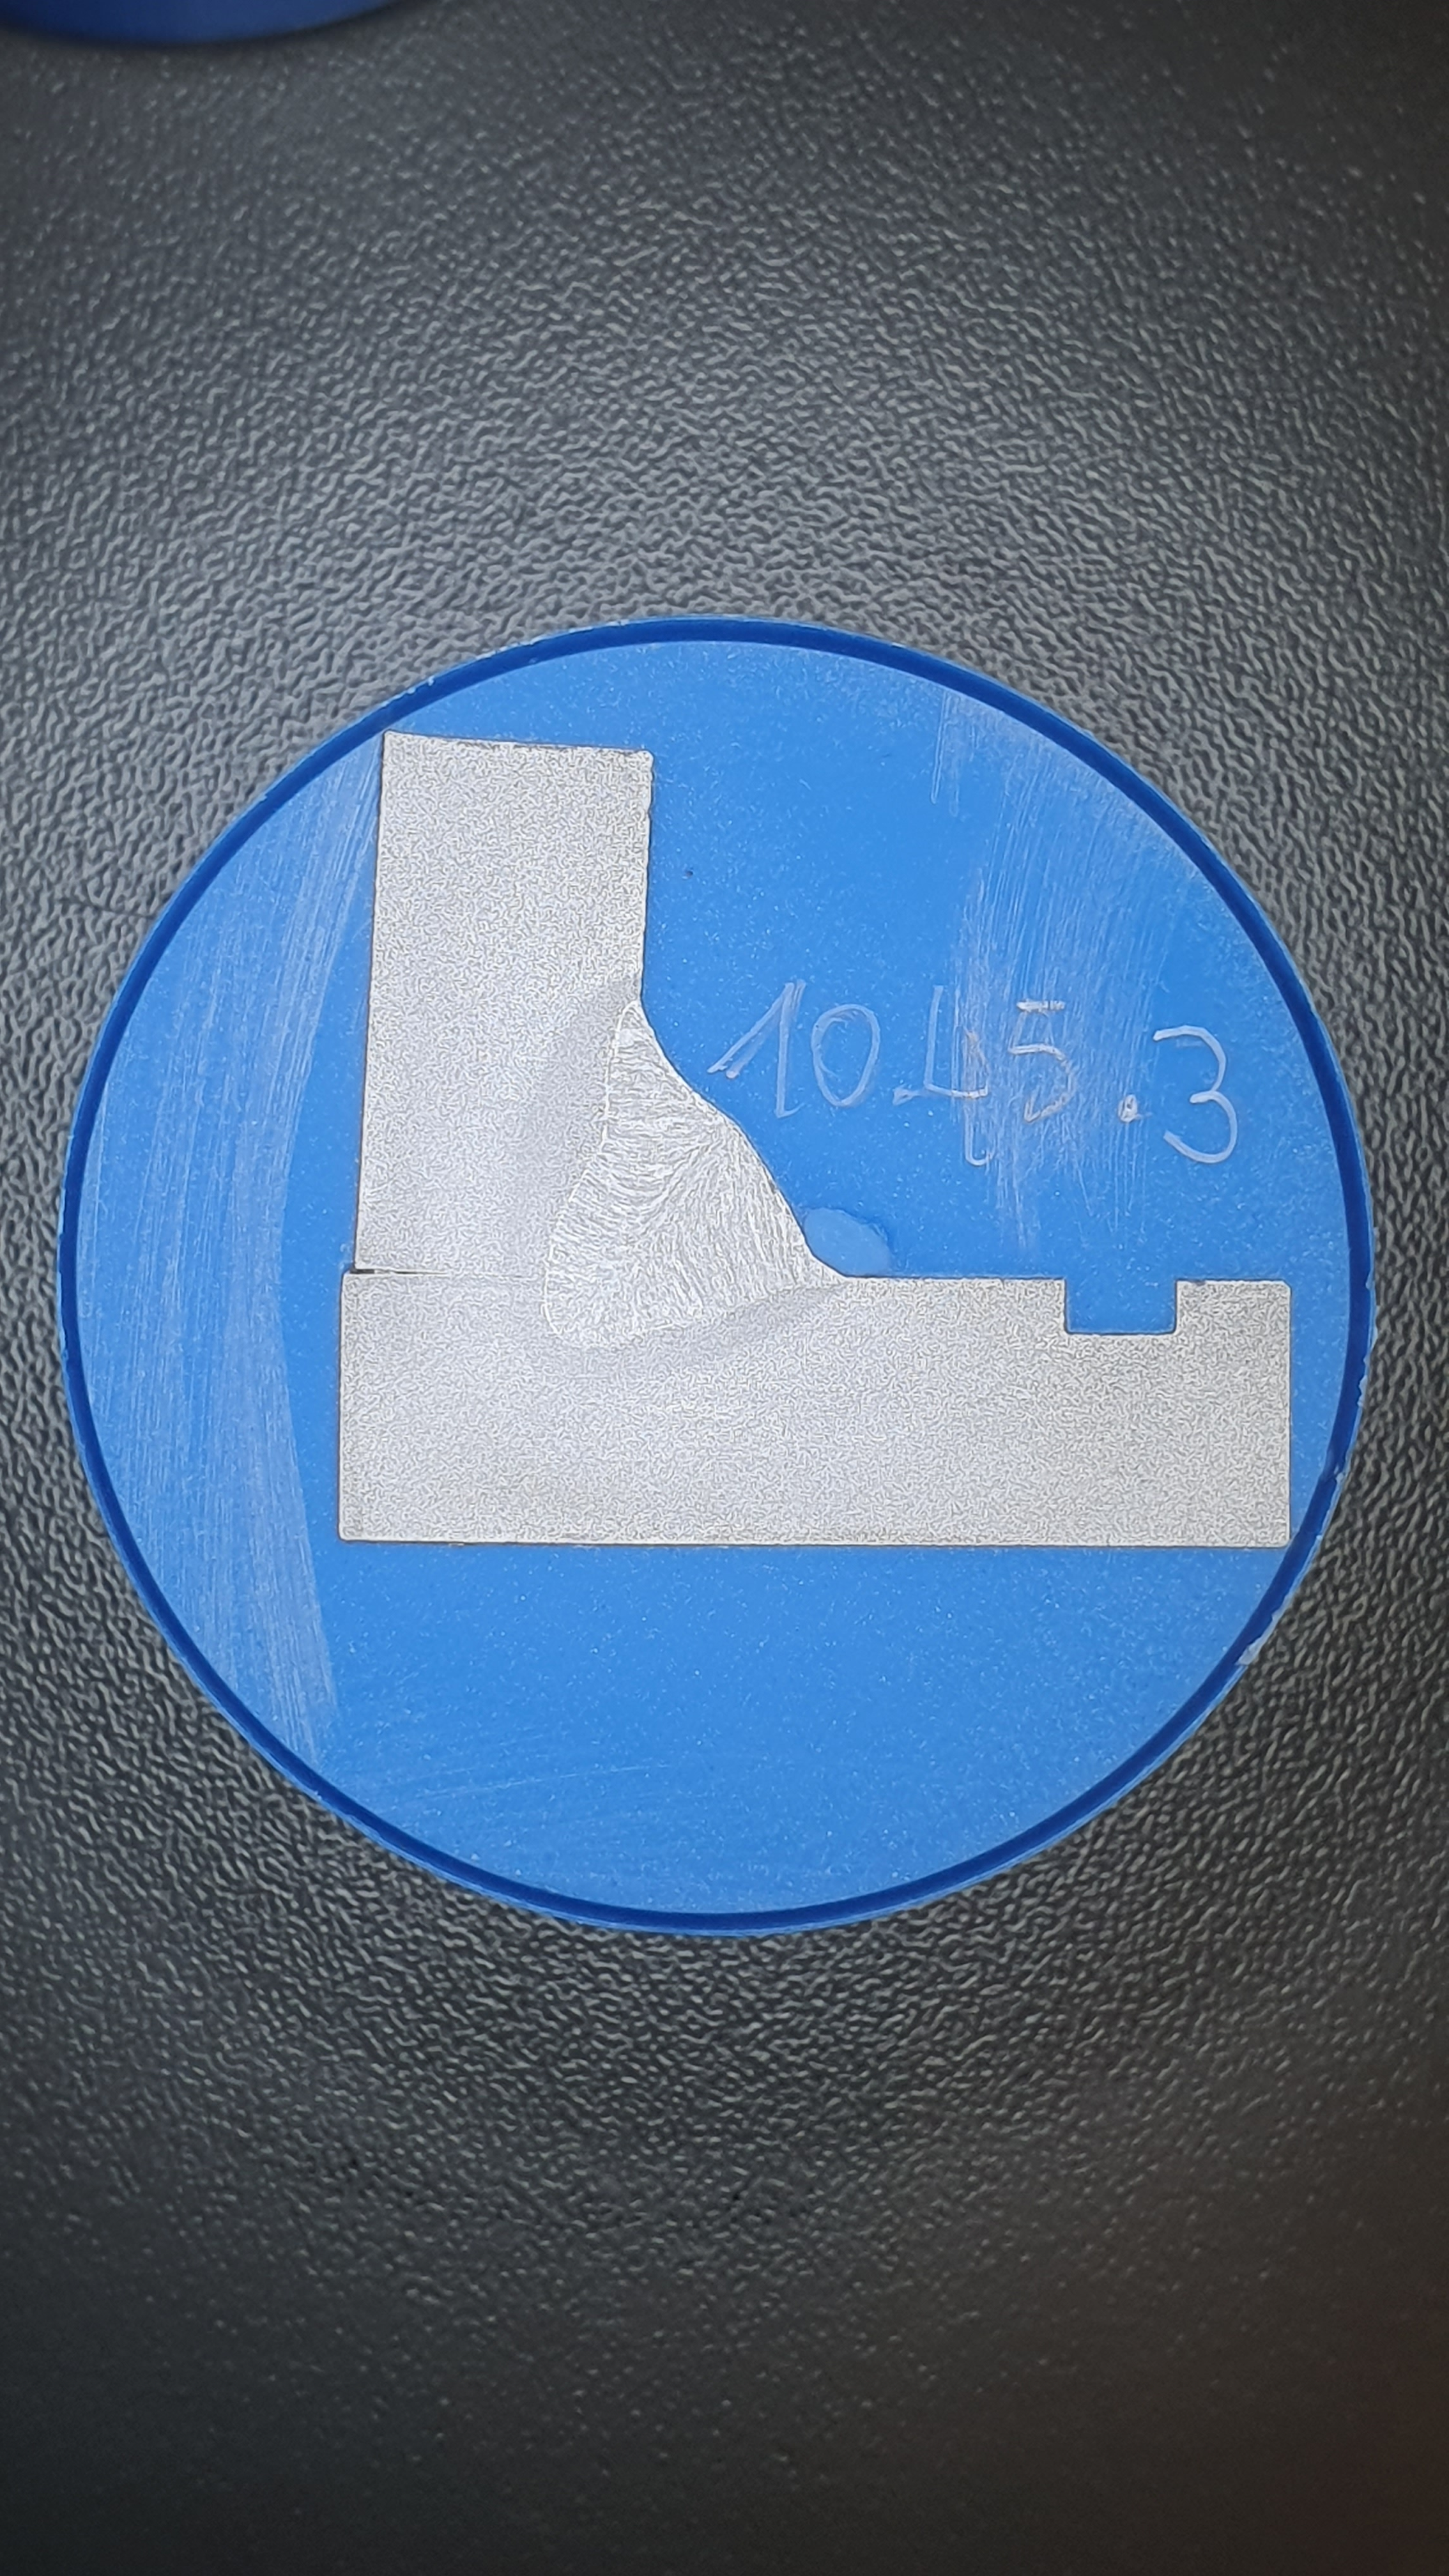Fusion: (543, 1000, 840, 1350)
Hintergrund: (78, 642, 1350, 1913)
Metall: (338, 729, 1292, 1548)
Nebenbereich: (502, 971, 849, 1389)
